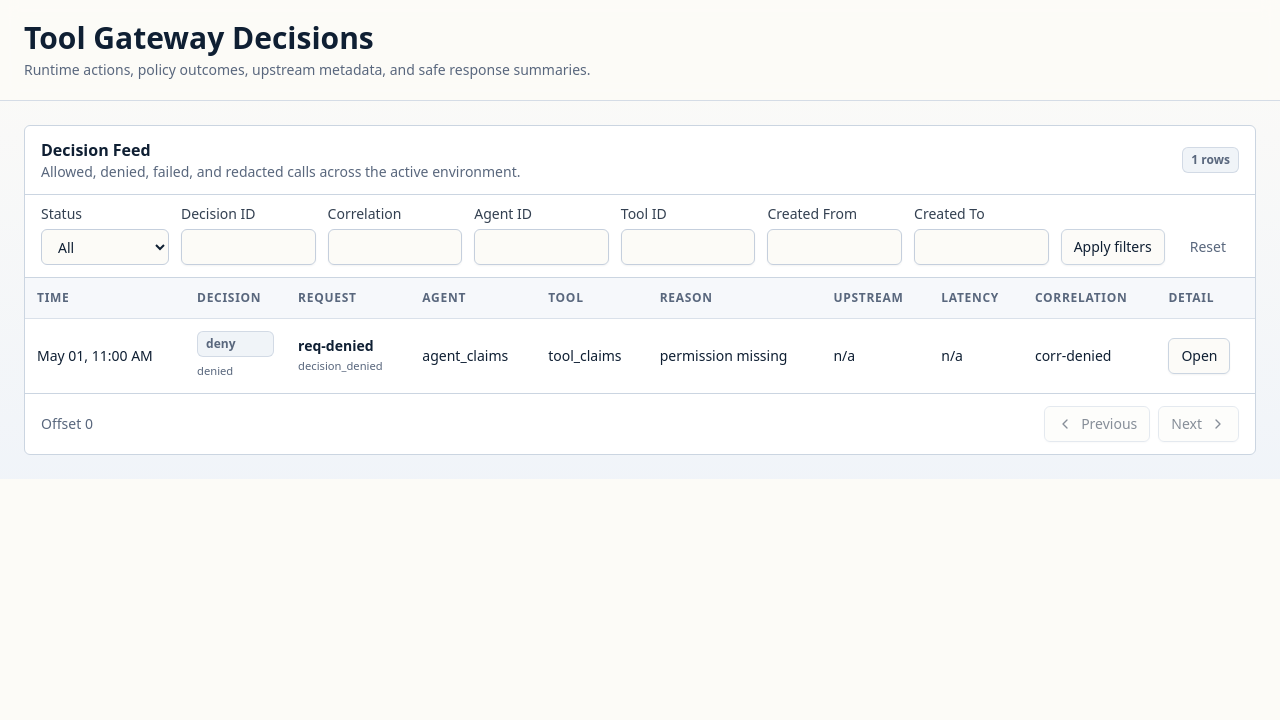
ToolDecisionsPage › shows the runtime event timeline in the drawer
Click the button "Open": (1199, 356) [1168,338,1230,374]
(page scrolled)
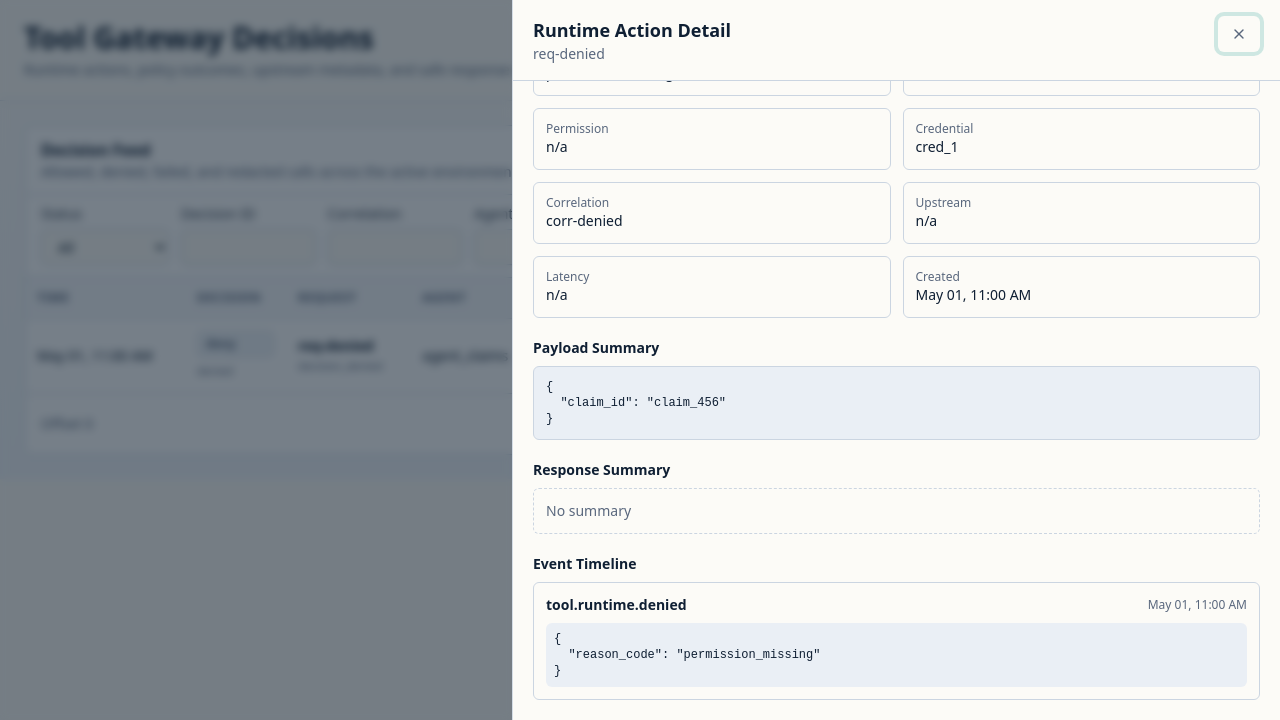
Check: the text "tool.runtime.denied" is shown, box [546,595,686,615]
